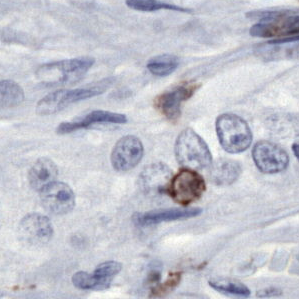Lymphocyte: (167, 167, 205, 205)
